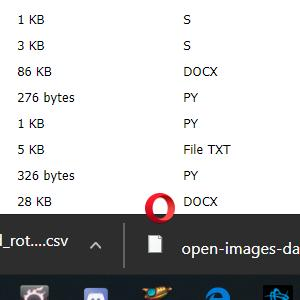opera: (145, 193, 175, 224)
